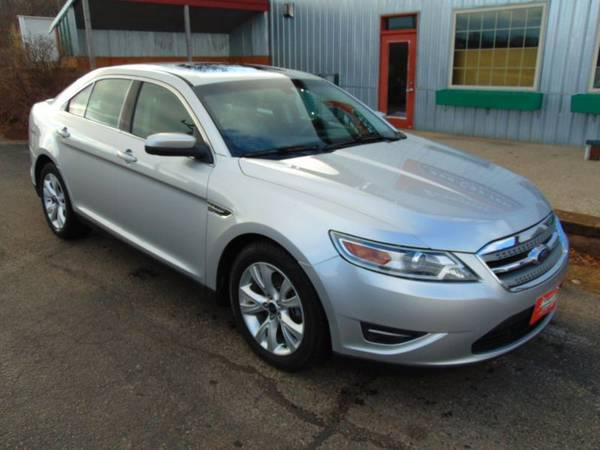Front_Bumper: (308, 245, 568, 368)
Front_Fender: (209, 160, 434, 288)
Front_Right_Door: (112, 131, 221, 282)
Front_Right_Window: (130, 78, 222, 160)
Front_Windshield: (201, 78, 411, 160)
Grille: (478, 209, 564, 287)
Hood: (242, 137, 551, 253)
Rear_Right_Door: (28, 110, 122, 227)
Rear_Right_Window: (68, 73, 144, 130)
Right_Headlight: (335, 234, 488, 288)
Roof: (57, 62, 329, 156)
Wheel: (224, 239, 323, 363), (37, 163, 71, 232)
